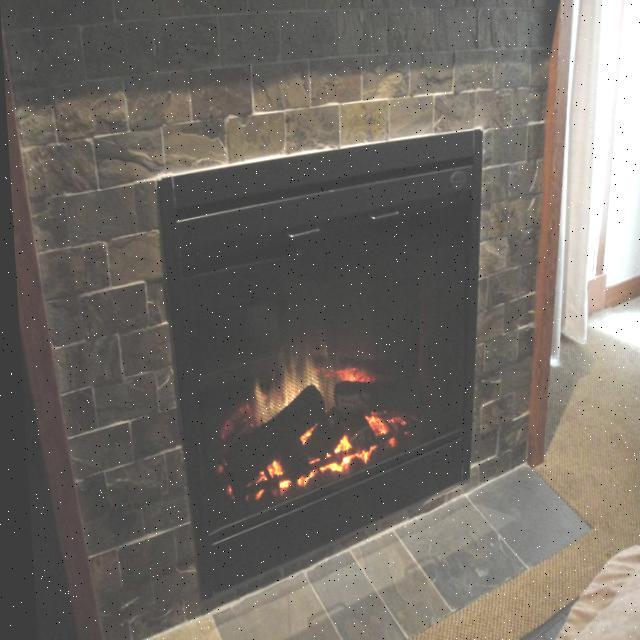Fire: (214, 361, 394, 476)
